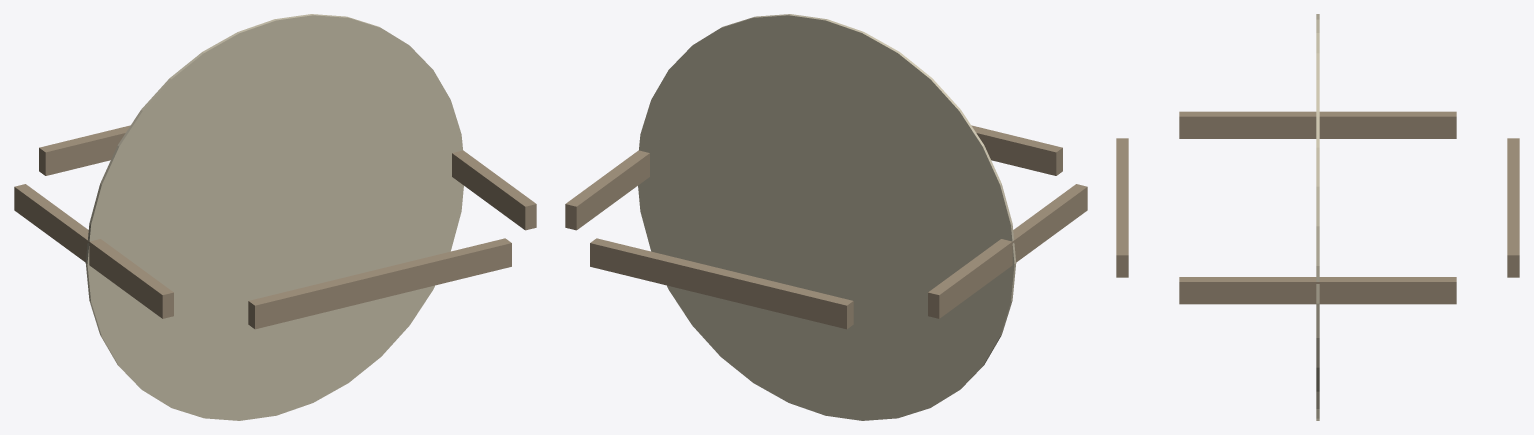
The model's file is Sandbox.glb.
3 renders of one model, left to right at view 1: azimuth 30°, elevation 25°; view 2: azimuth 150°, elevation 25°; view 3: azimuth 270°, elevation 25°, orthographic. The views are drawn at different scales.
Parts seen in each view (by area): view 1: world; view 2: world; view 3: world.
Part boxes in pixels (x1,y1,x2,y2): world: (14,14,536,420); world: (565,14,1087,420); world: (1116,14,1519,420).
Size of the model in its own units: 5 by 5 by 4.95.
